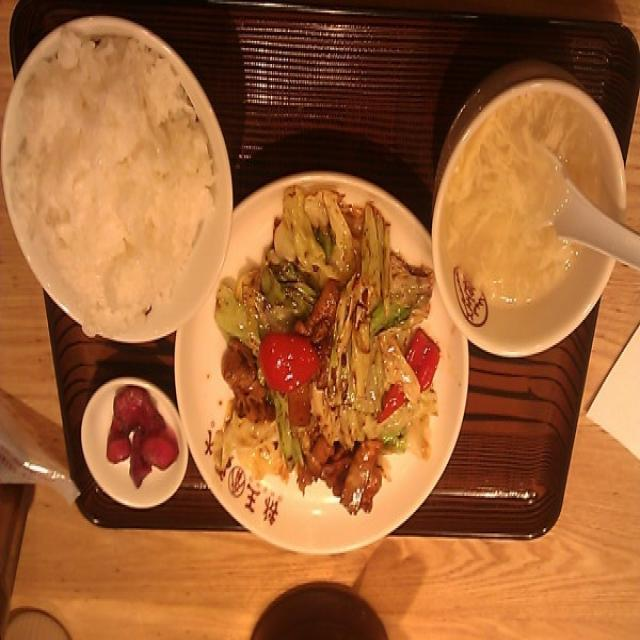Rice: (14, 54, 218, 326)
